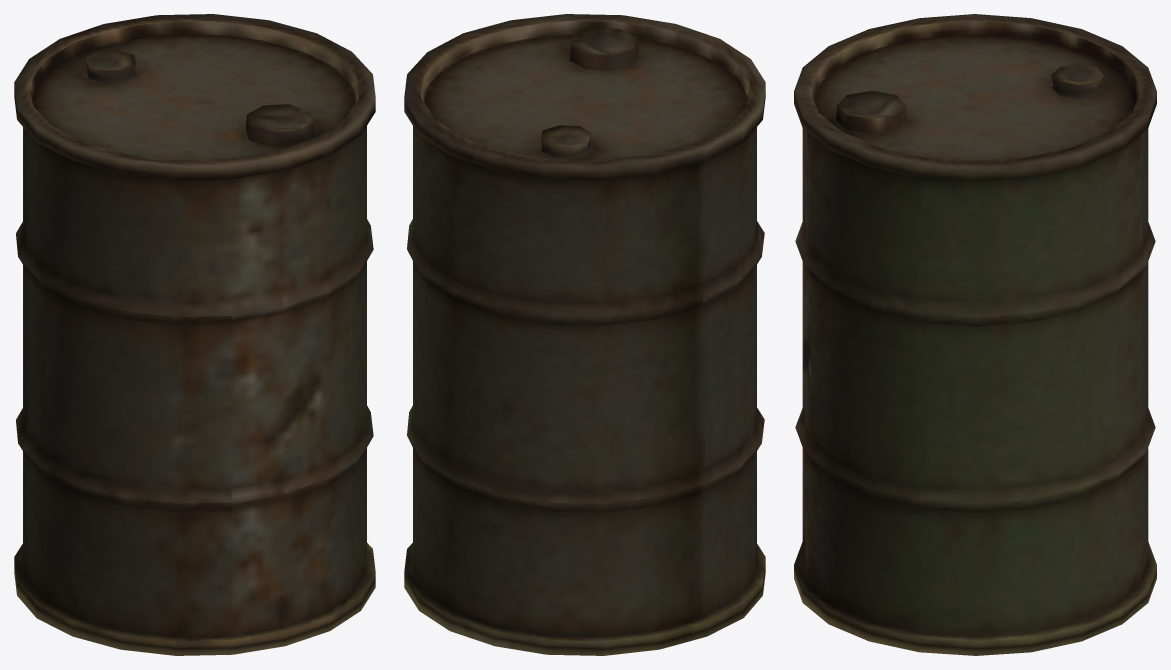
File: safety_rusty_storage_tank.fbx
3 renders of one model, left to right at view 1: azimuth 30°, elevation 25°; view 2: azimuth 150°, elevation 25°; view 3: azimuth 270°, elevation 25°, orthographic.
Parts seen in each view (by area): view 1: safety_rusty_storage_tank; view 2: safety_rusty_storage_tank; view 3: safety_rusty_storage_tank.
Boxes of the visible parts, left/top/right/bottom form: safety_rusty_storage_tank: left=14, top=14, right=375, bottom=655; safety_rusty_storage_tank: left=404, top=14, right=765, bottom=655; safety_rusty_storage_tank: left=794, top=14, right=1156, bottom=655.
Bounding box in the file's own units: 62.32 × 92.65 × 62.11.
1 material, 1 textured.
